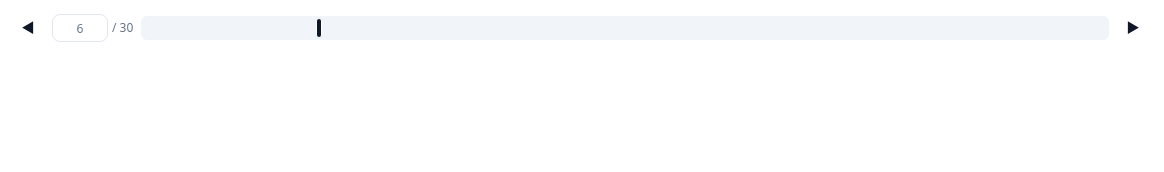
Scenario: PagePositionBar › ◀ ▶ 클릭은 한 쪽씩 옮긴다
Click the button with test id "bar-button-next" at (1133, 28), box [1117,12,1149,44]
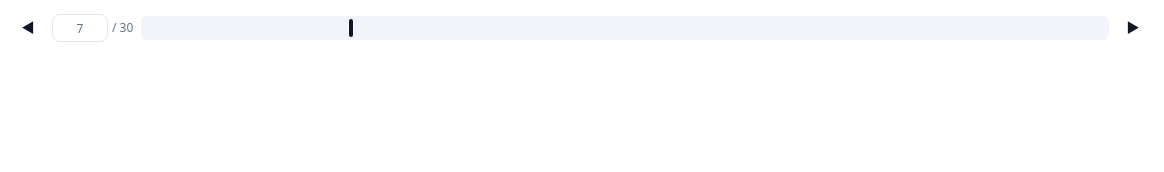
Click the button with test id "bar-button-next" at (1133, 28), box [1117,12,1149,44]
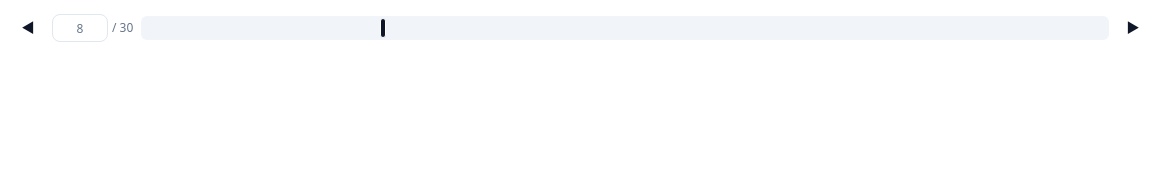
Click the button with test id "bar-button-previous" at (28, 28), box [12,12,44,44]
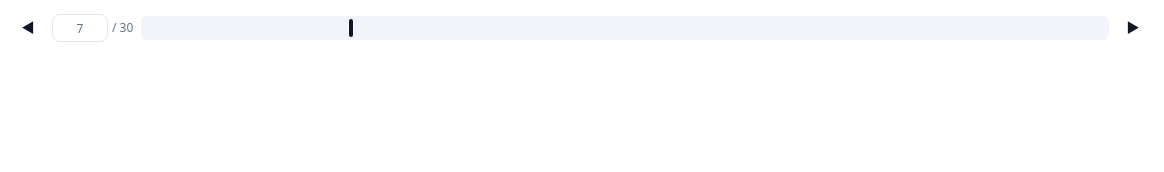
expect the field with test id "bar-input-page" holds "7": met, box [52,14,108,42]
